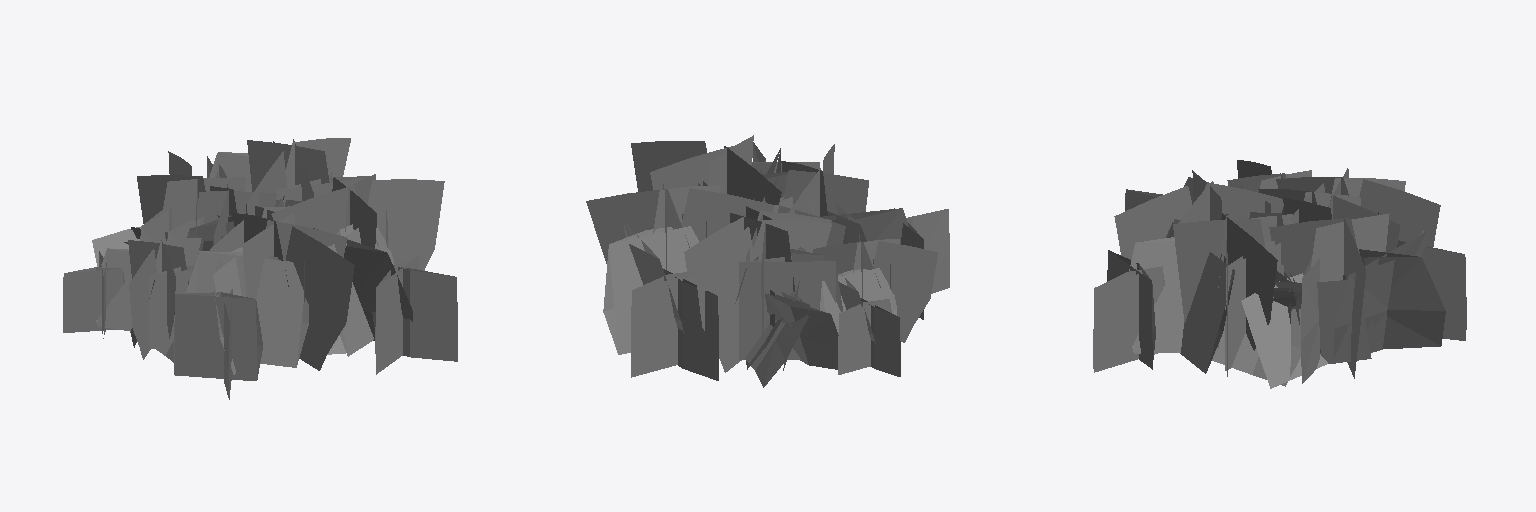
File: Foliage_Tall_Grass_A.obj
3 renders of one model, left to right at view 1: azimuth 30°, elevation 25°; view 2: azimuth 150°, elevation 25°; view 3: azimuth 270°, elevation 25°, orthographic.
Visible parts, largest first — view 1: Foliage_Tall_Grass_A_LOD1, Foliage_Tall_Grass_A_LOD0; view 2: Foliage_Tall_Grass_A_LOD0, Foliage_Tall_Grass_A_LOD1; view 3: Foliage_Tall_Grass_A_LOD0, Foliage_Tall_Grass_A_LOD1.
Boxes of the visible parts, box(x1,y1,x2,y2) form: Foliage_Tall_Grass_A_LOD1: box(63, 138, 449, 399); Foliage_Tall_Grass_A_LOD0: box(63, 139, 457, 397); Foliage_Tall_Grass_A_LOD0: box(586, 135, 949, 387); Foliage_Tall_Grass_A_LOD1: box(588, 137, 944, 377); Foliage_Tall_Grass_A_LOD0: box(1093, 160, 1466, 386); Foliage_Tall_Grass_A_LOD1: box(1094, 160, 1461, 388).
Bounding box in the file's own units: 281 × 121 × 279.